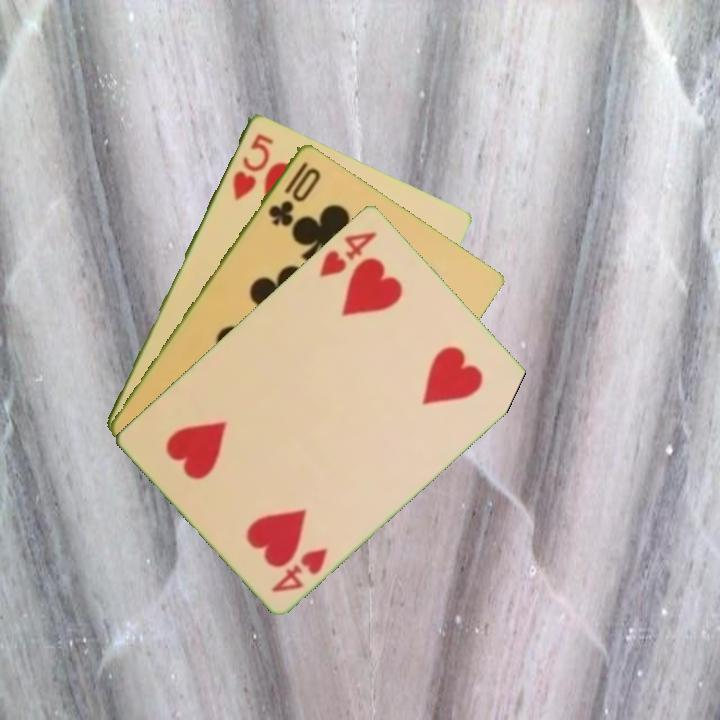10c: (264, 157, 324, 229)
4h: (315, 227, 380, 280), (267, 543, 331, 595)
5h: (228, 129, 276, 203)
